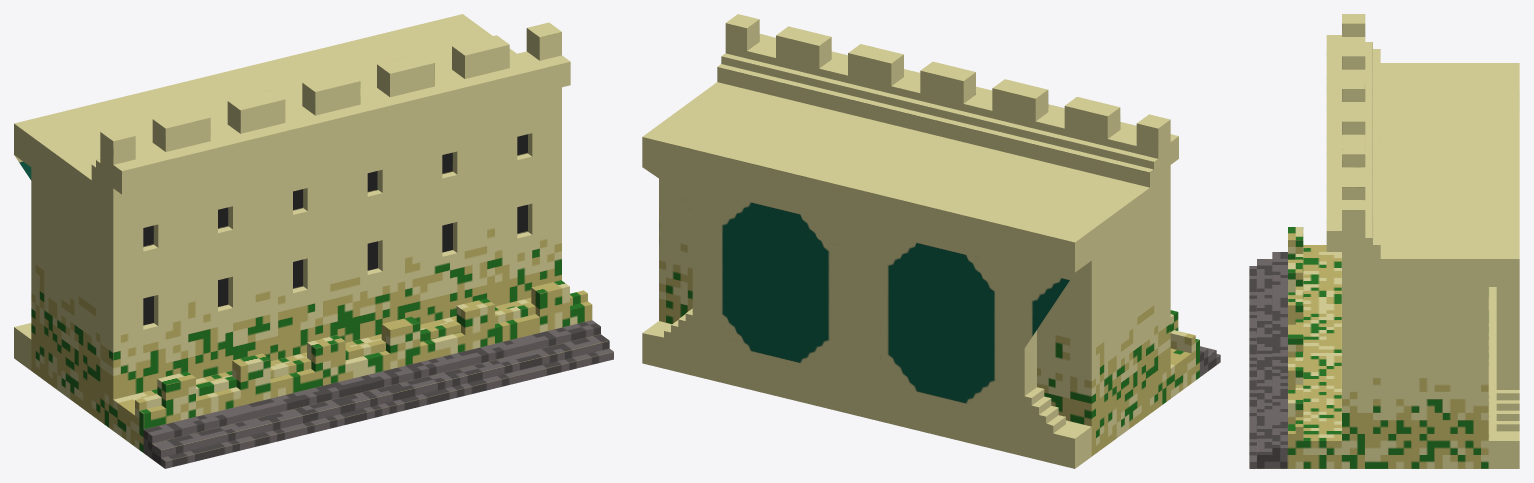
File: Wall_Simple.obj
3 renders of one model, left to right at view 1: azimuth 30°, elevation 25°; view 2: azimuth 150°, elevation 25°; view 3: azimuth 270°, elevation 25°, orthographic. The views are drawn at different scales.
Parts seen in each view (by area): view 1: Wall_Simple_Medieval_Assets-43.001; view 2: Wall_Simple_Medieval_Assets-43.001; view 3: Wall_Simple_Medieval_Assets-43.001.
Boxes of the visible parts, <box> form: Wall_Simple_Medieval_Assets-43.001: <box>14,14,613,468</box>; Wall_Simple_Medieval_Assets-43.001: <box>642,14,1220,468</box>; Wall_Simple_Medieval_Assets-43.001: <box>1249,14,1519,468</box>.
Bounding box in the file's own units: 6 × 3.7 × 3.5.
1 material, 1 textured.
